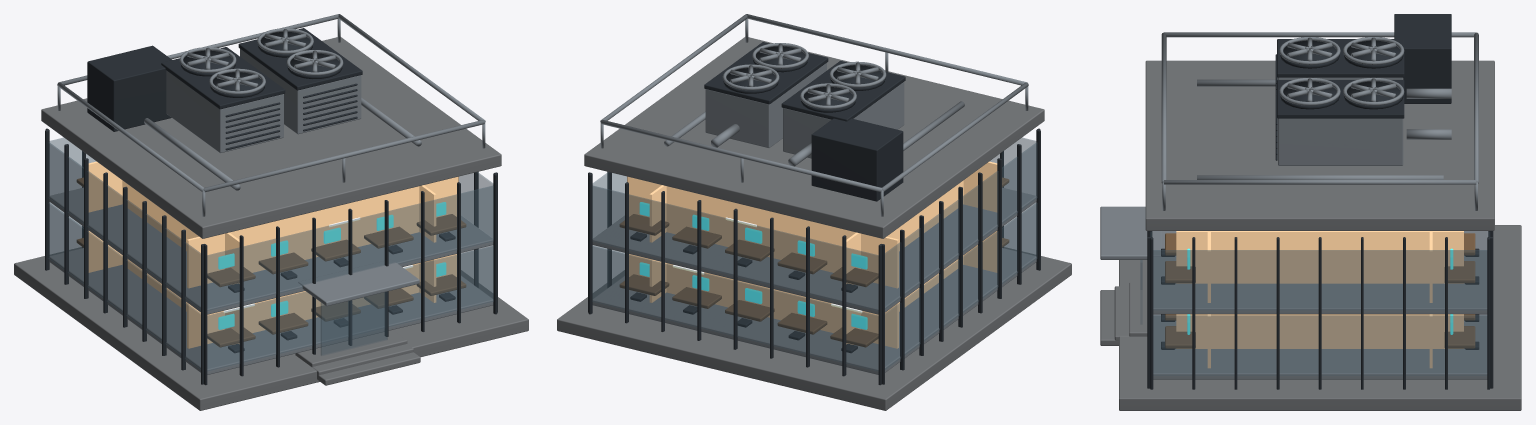
Rendered from soc.glb.
The picture shows the model from 3 angles, left to right: view 1: azimuth 30°, elevation 25°; view 2: azimuth 150°, elevation 25°; view 3: azimuth 270°, elevation 25°; orthographic projection. The views are drawn at different scales.
Visible parts, largest first — view 1: body_concrete.014, body_glass.012, body_steel.033, body_dark.032, body_window.005, body_steel.034, body_wood.005, body_dark.033, body_blue.003; view 2: body_concrete.014, body_glass.012, body_steel.033, body_dark.032, body_window.005, body_steel.034, body_wood.005, body_dark.033, body_blue.003; view 3: body_concrete.014, body_glass.012, body_steel.033, body_window.005, body_dark.032, body_steel.034, body_wood.005, body_dark.033.
Boxes of the visible parts, left/top/right/bottom form: body_concrete.014: left=14, top=37, right=528, bottom=410; body_glass.012: left=48, top=137, right=493, bottom=370; body_steel.033: left=49, top=49, right=493, bottom=374; body_dark.032: left=45, top=28, right=497, bottom=385; body_window.005: left=88, top=161, right=458, bottom=348; body_steel.034: left=57, top=14, right=485, bottom=216; body_wood.005: left=76, top=177, right=466, bottom=347; body_dark.033: left=180, top=32, right=342, bottom=97; body_blue.003: left=218, top=202, right=446, bottom=329; body_concrete.014: left=557, top=37, right=1071, bottom=410; body_glass.012: left=592, top=137, right=1037, bottom=370; body_steel.033: left=592, top=63, right=1036, bottom=374; body_dark.032: left=588, top=42, right=1040, bottom=385; body_window.005: left=627, top=161, right=997, bottom=348; body_steel.034: left=600, top=14, right=1028, bottom=216; body_wood.005: left=619, top=177, right=1009, bottom=347; body_dark.033: left=723, top=46, right=885, bottom=112; body_blue.003: left=639, top=202, right=867, bottom=329; body_concrete.014: left=1100, top=60, right=1521, bottom=410; body_glass.012: left=1140, top=232, right=1489, bottom=375; body_steel.033: left=1100, top=77, right=1488, bottom=379; body_window.005: left=1176, top=231, right=1463, bottom=368; body_dark.032: left=1147, top=14, right=1493, bottom=389; body_steel.034: left=1161, top=32, right=1478, bottom=210; body_wood.005: left=1165, top=233, right=1475, bottom=348; body_dark.033: left=1280, top=40, right=1403, bottom=109.
Bounding box in the file's own units: 2 × 1.38 × 2.05.
